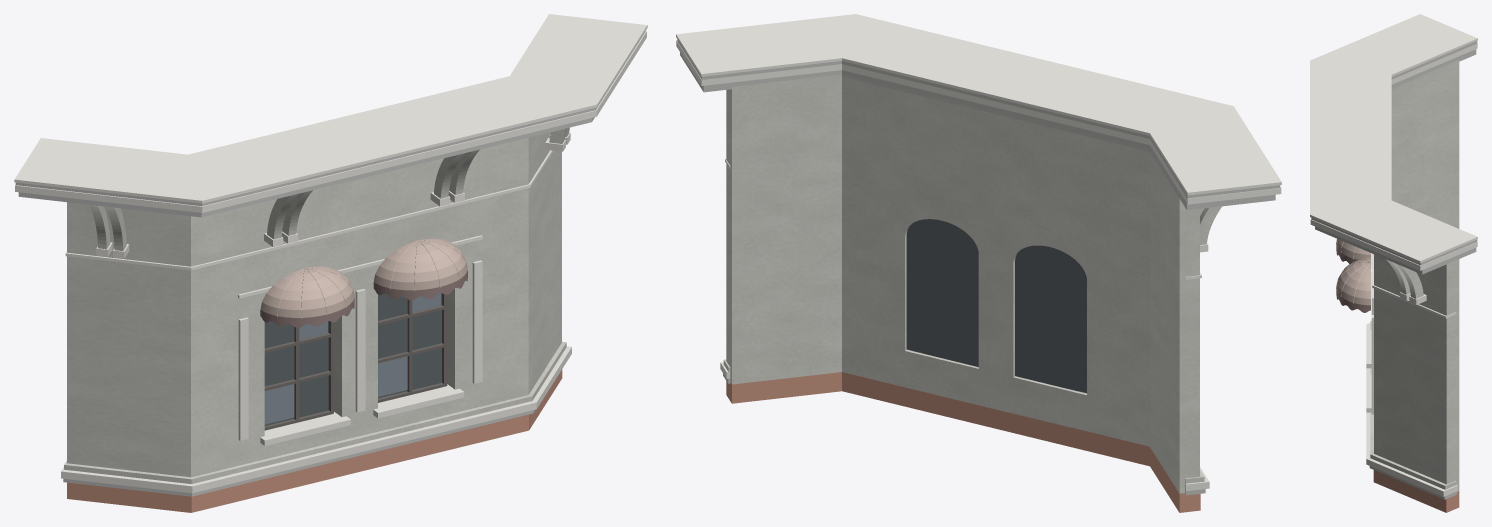
The model's file is huangpu-navy-ymca-paired-eave-brackets-web.glb.
3 views of the same model, side by side, from view 1: azimuth 30°, elevation 25°; view 2: azimuth 150°, elevation 25°; view 3: azimuth 270°, elevation 25° (orthographic). The views are drawn at different scales.
Parts seen in each view (by area): view 1: 海青大楼顶层双窗与成对弧形檐托; view 2: 海青大楼顶层双窗与成对弧形檐托; view 3: 海青大楼顶层双窗与成对弧形檐托.
Part boxes in pixels (<box>): 海青大楼顶层双窗与成对弧形檐托: <box>14,14,647,512</box>; 海青大楼顶层双窗与成对弧形檐托: <box>676,14,1281,512</box>; 海青大楼顶层双窗与成对弧形檐托: <box>1310,14,1477,512</box>.
Size of the model in its own units: 6.6 by 3.47 by 1.89.
Materials: 10 (1 with a texture image).
